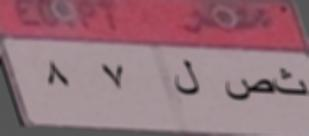7: (98, 61, 128, 90)
8: (44, 58, 71, 95)
laam: (171, 56, 201, 101)
saad: (223, 73, 272, 106)
thaa: (273, 66, 309, 103)
